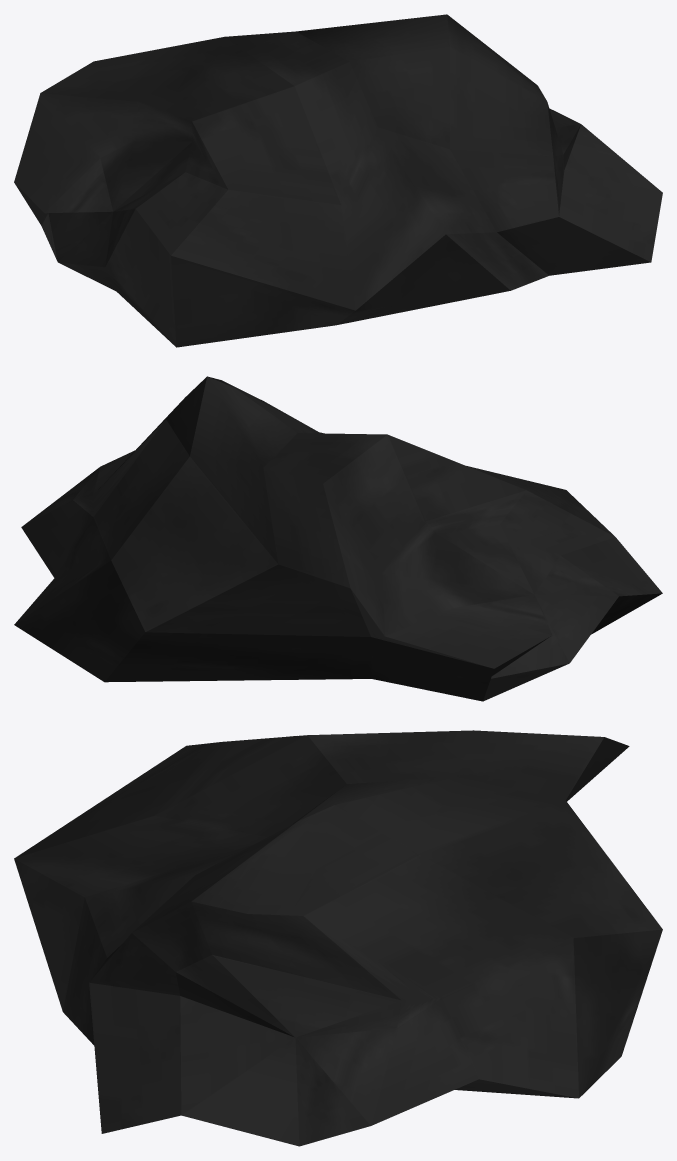
The model's file is rock_004.obj.
The picture shows the model from 3 angles, top to bottom: view 1: azimuth 30°, elevation 25°; view 2: azimuth 150°, elevation 25°; view 3: azimuth 270°, elevation 25°; orthographic projection. The views are drawn at different scales.
Parts seen in each view (by area): view 1: Mesh; view 2: Mesh; view 3: Mesh.
Boxes of the visible parts, x1,y1,x2,y2 form: Mesh: (14, 14, 662, 347); Mesh: (14, 376, 662, 701); Mesh: (14, 730, 662, 1146).
Size of the model in its own units: 1.42 by 0.5323 by 1.18.
